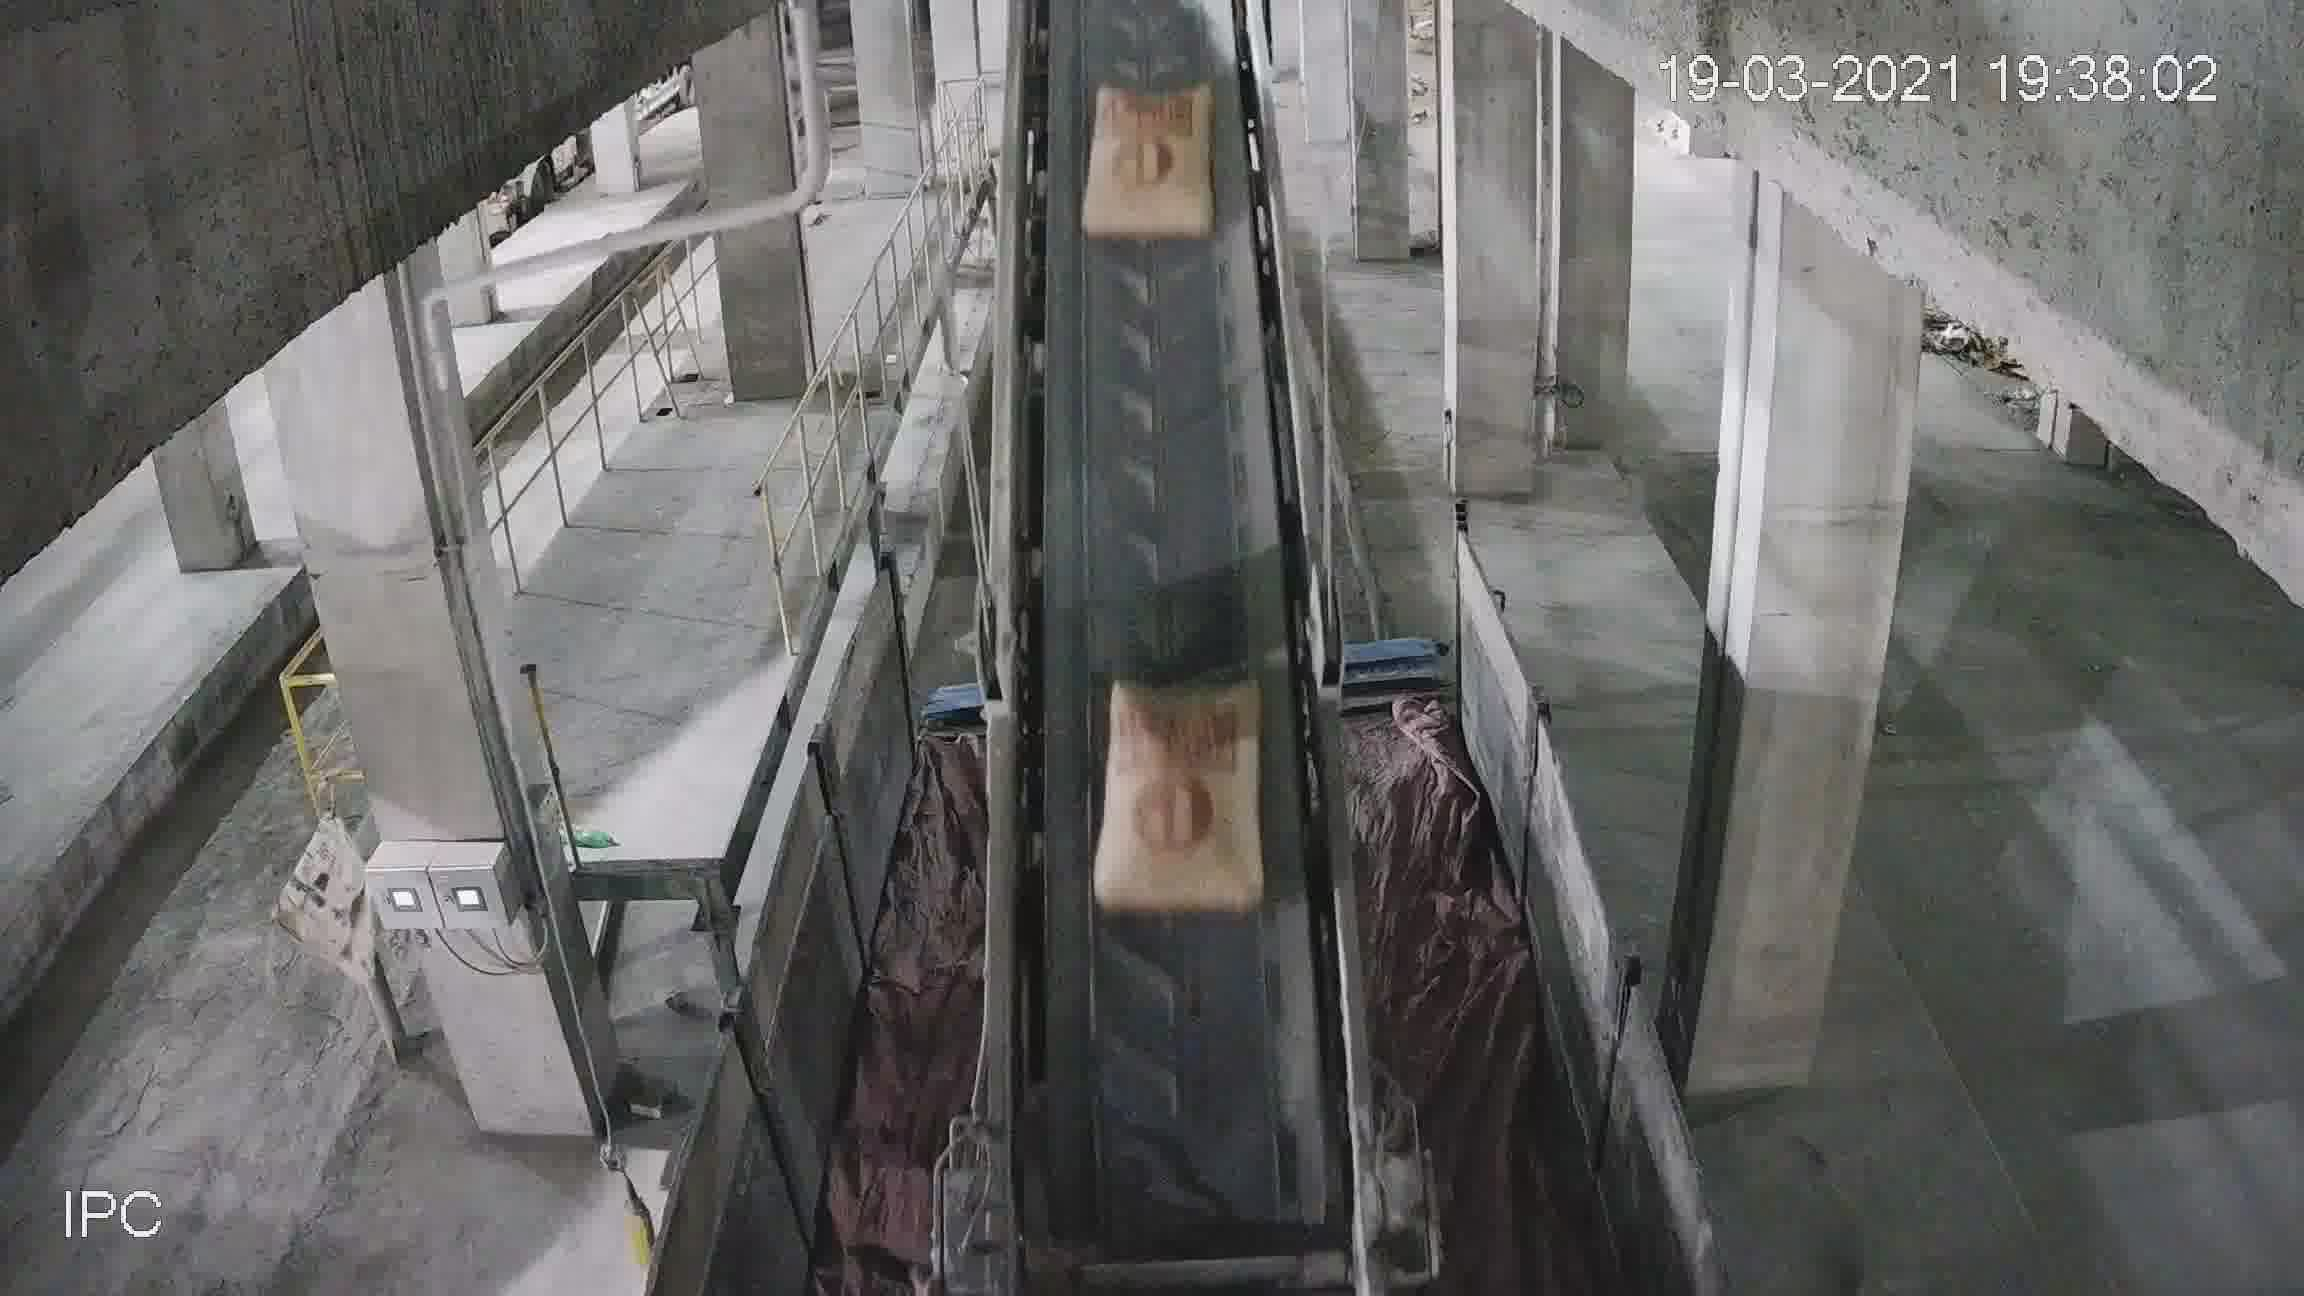bag: (1100, 677, 1271, 924), (1090, 89, 1217, 244)
belt: (983, 188, 1361, 1135)
